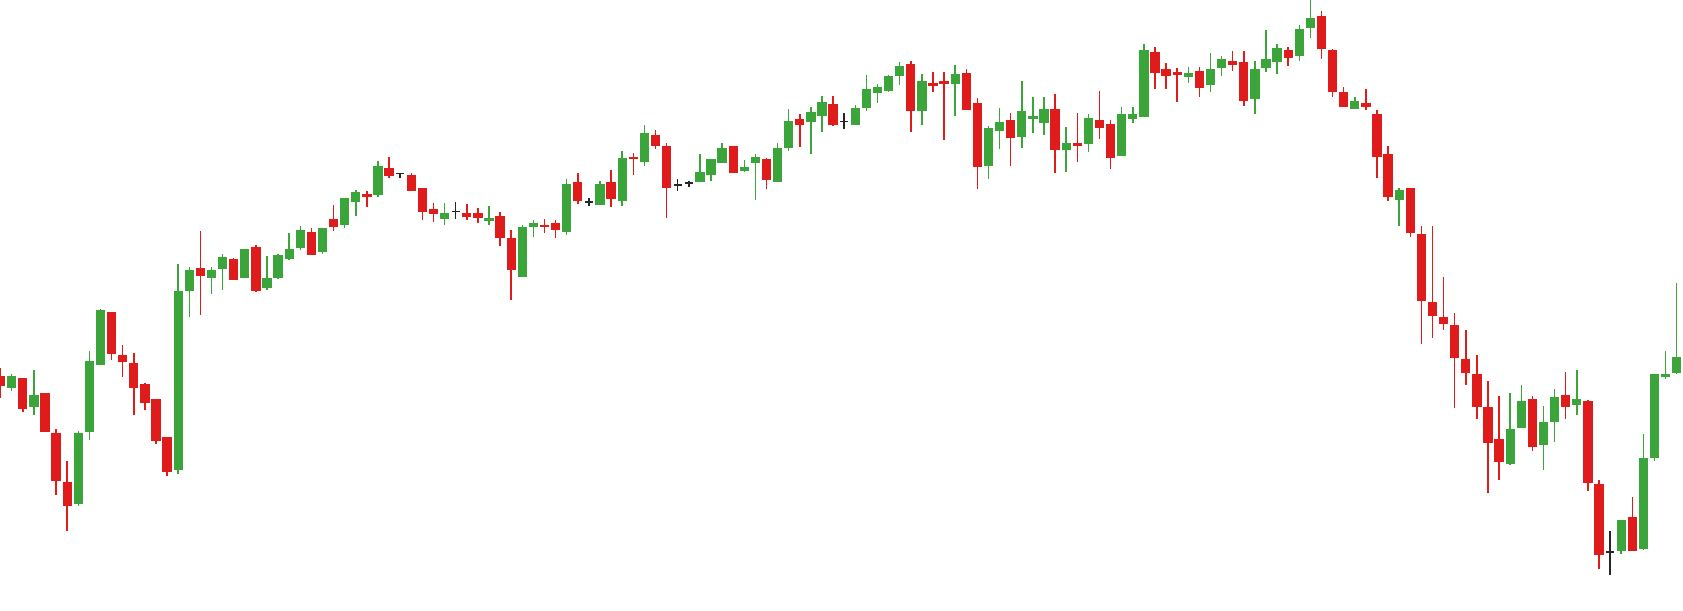sell: (1259, 3, 1329, 60)
